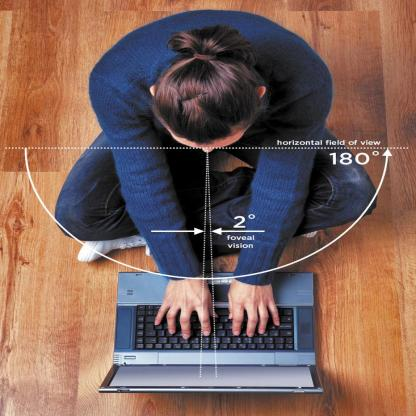board: (97, 263, 326, 400)
